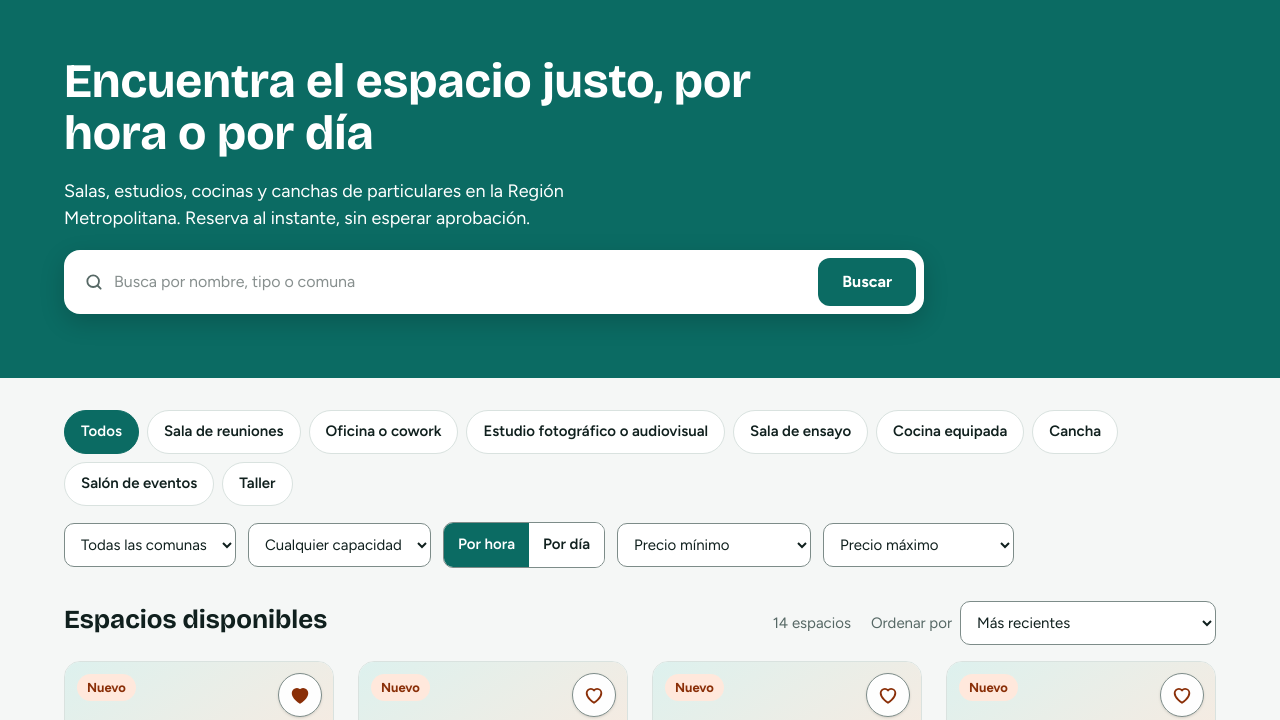
Scenario: corazón de favoritos (BU-08) › con sesión › si falla al quitarlo, lo deja marcado y avisa
Click the button named "Guardar en favoritos: Sala Alameda".
click(300, 695)  # box [278,673,322,717]
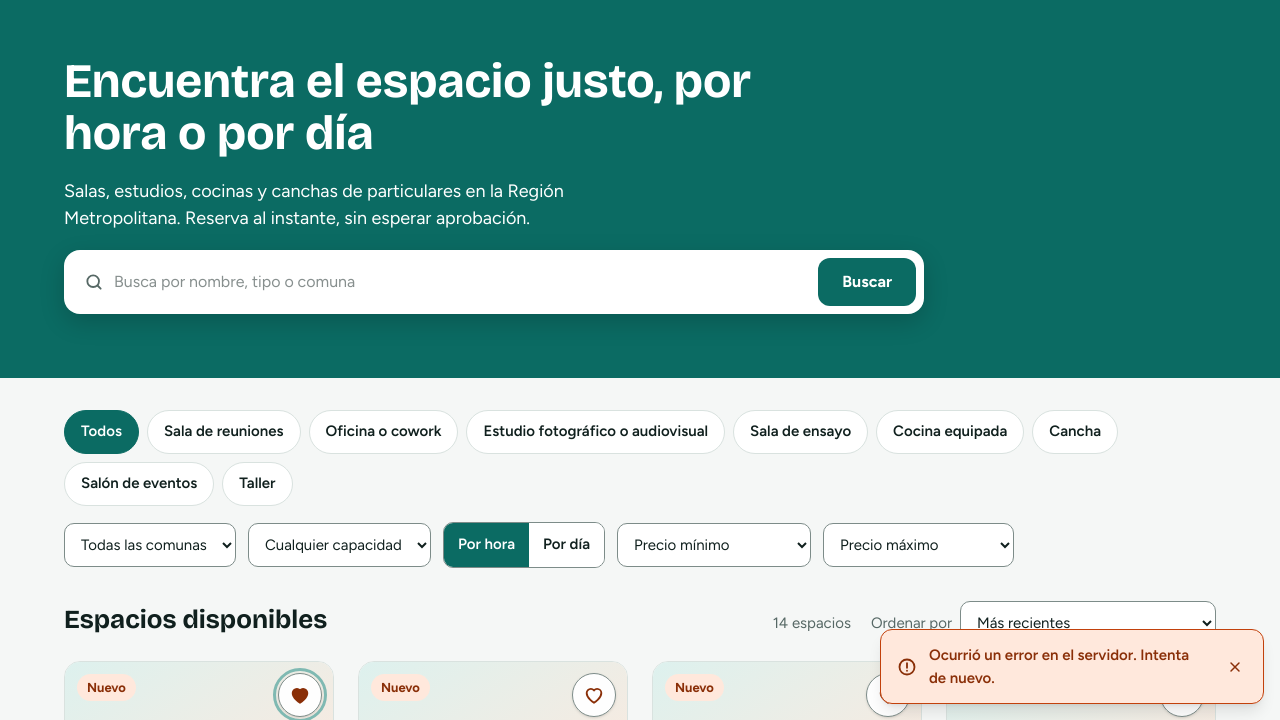
Expected: the message "Ocurrió un error en el servidor. Intenta de nuevo." is shown, [880,629,1264,704]
